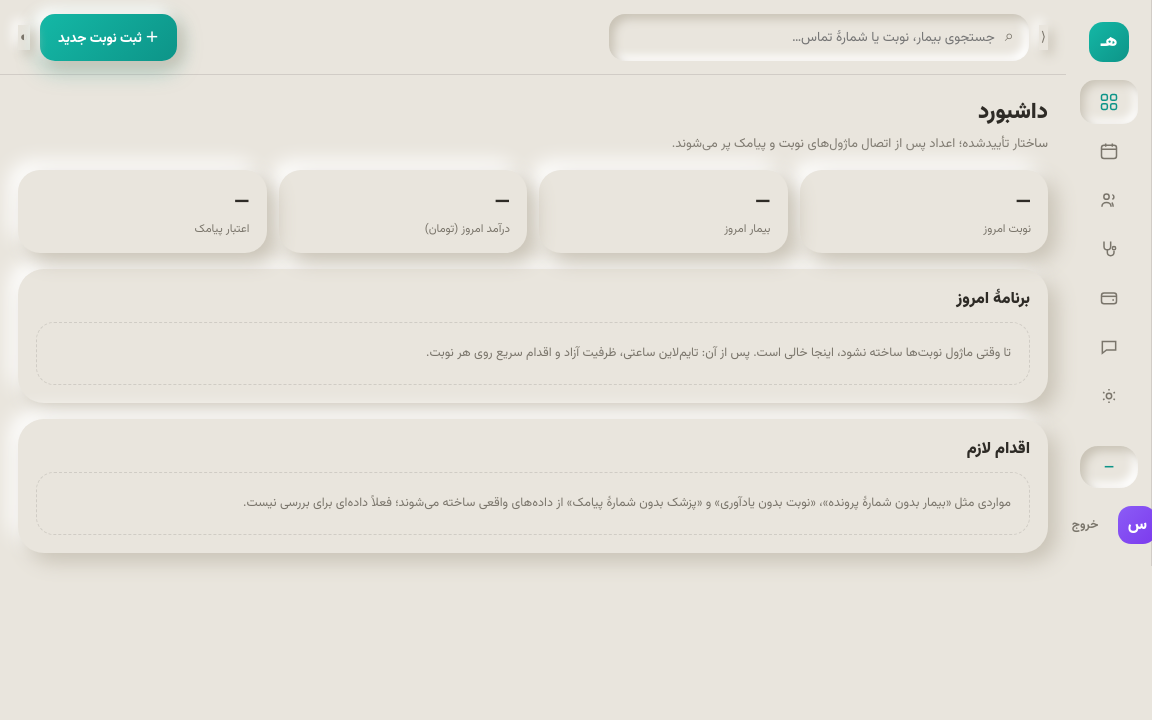
Test: PanelShell navigation › switches the page when a menu item is clicked
What coordinates should you click on to do the following:
click the link named "حسابداری"
I would click on:
 (1109, 298)
Its box is 1099,288 -> 1119,308.
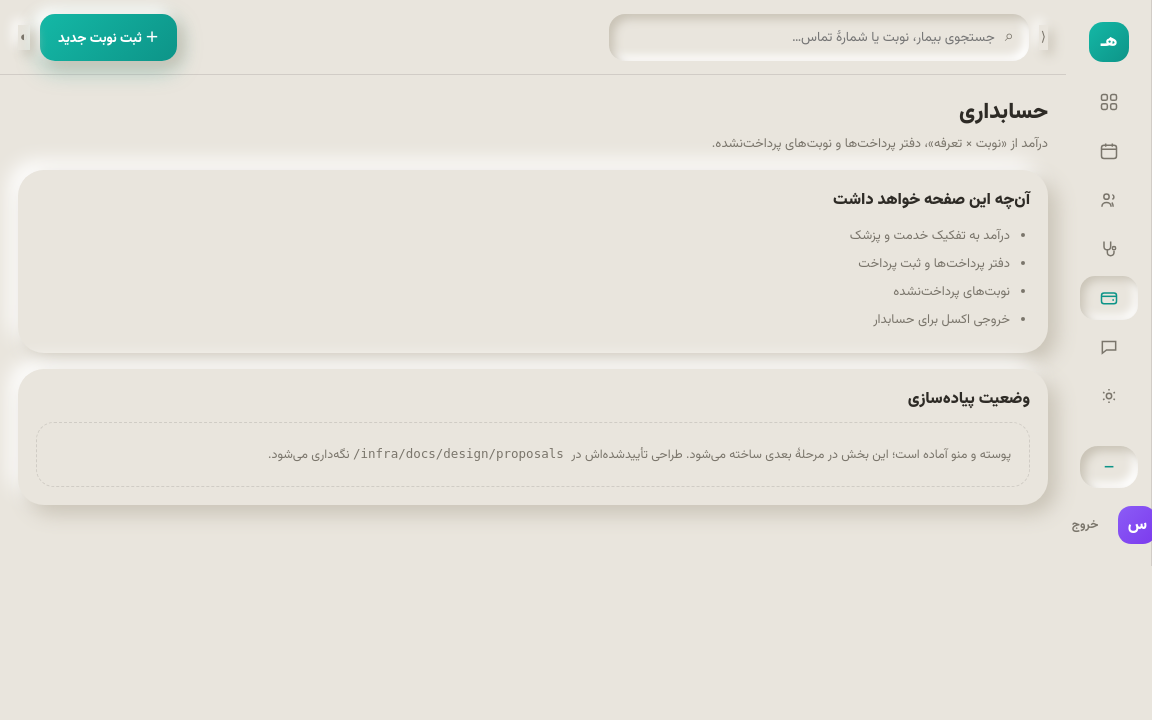
Now the heading "حسابداری" is shown, box 959,95 -> 1048,130
